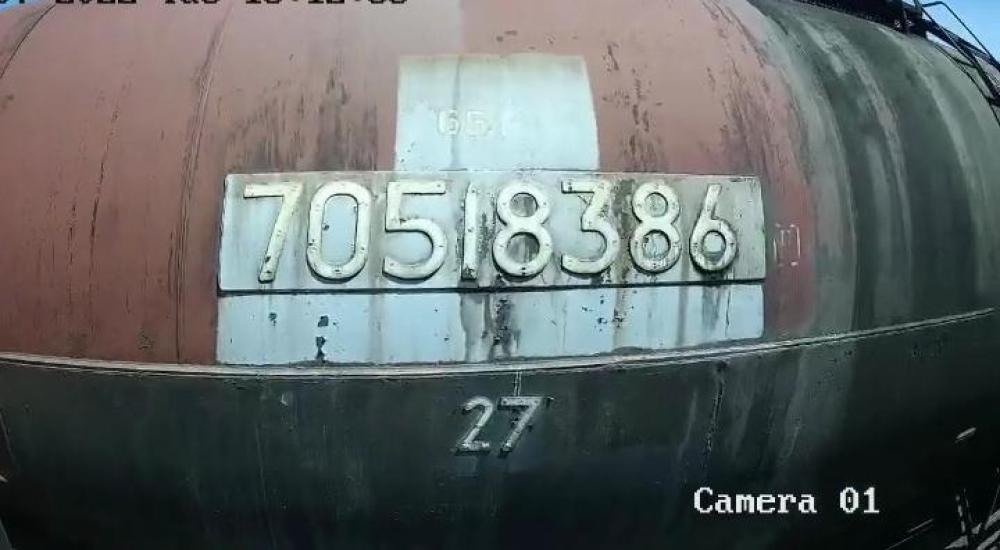Wagon-number: (236, 176, 744, 282)
